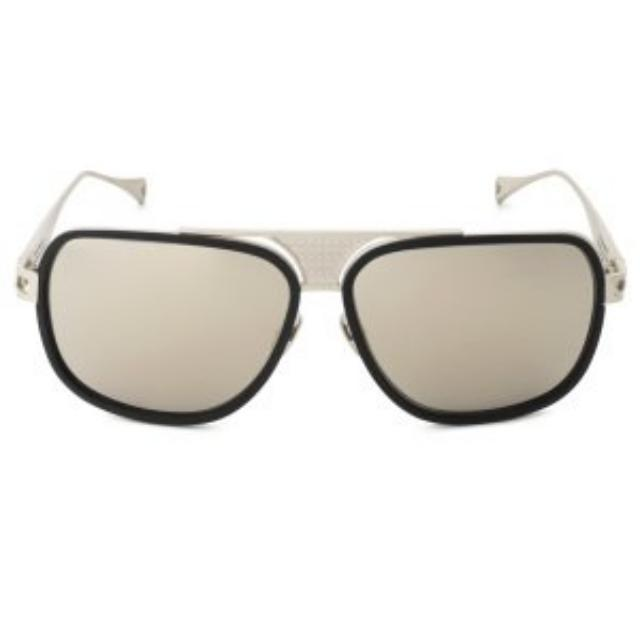sunglasses: (0, 168, 626, 428)
